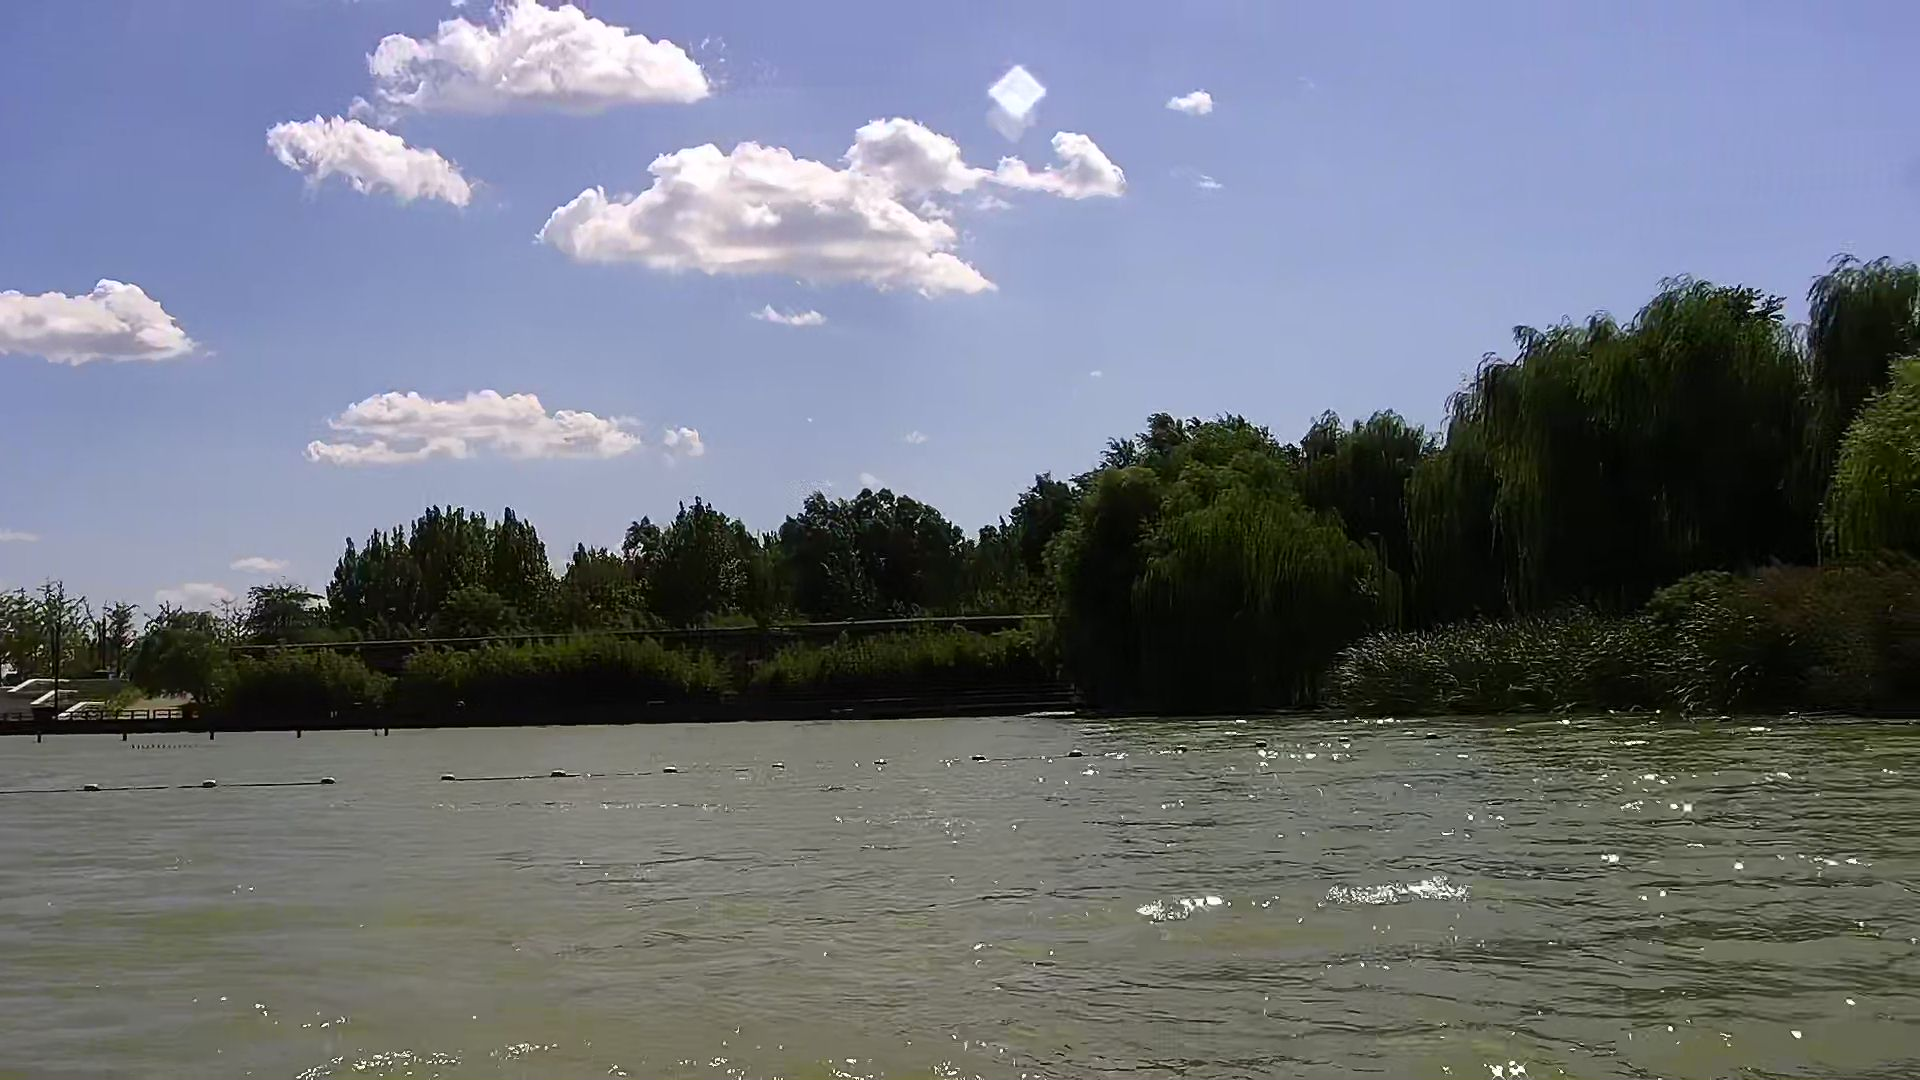ball: (539, 760, 578, 786), (75, 775, 109, 799), (194, 773, 225, 795), (1064, 738, 1087, 765), (311, 773, 342, 791), (440, 769, 458, 789)
harbor: (1, 676, 218, 740)
